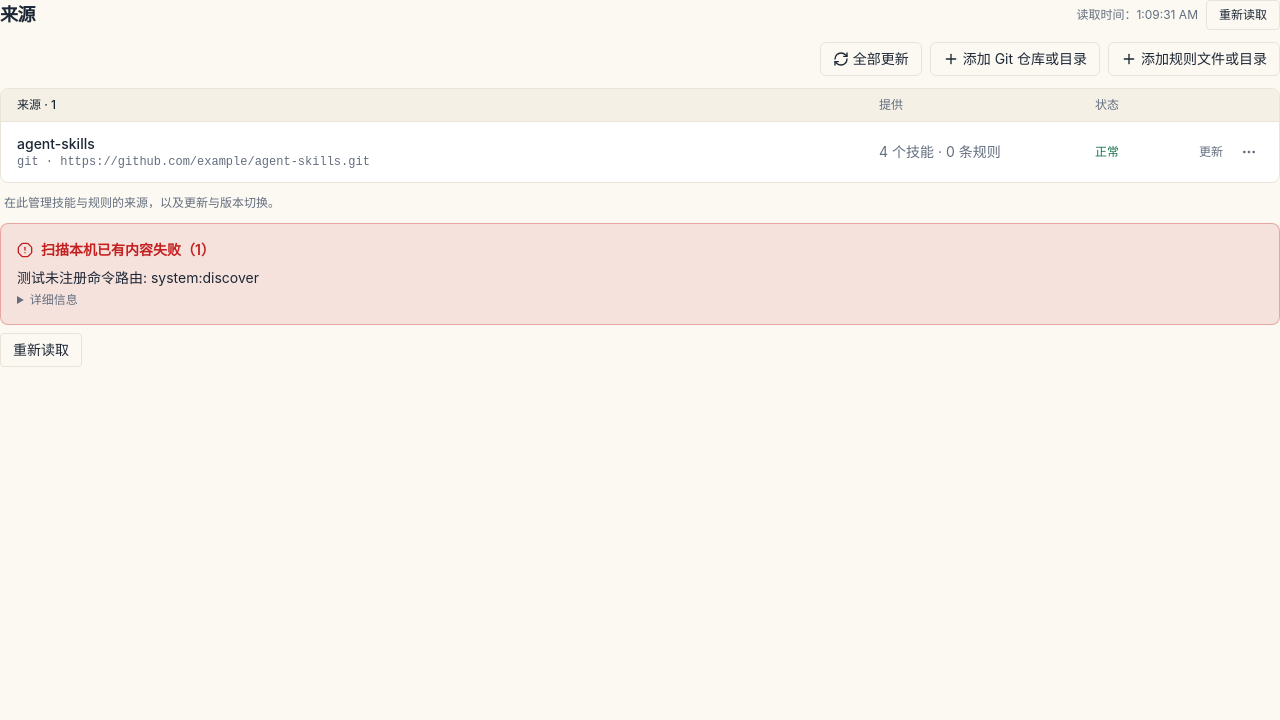
it: 来源页：添加、编辑、更新、移除 › 本机目录来源填写非法路径时停在表单，不写入
The image size is (1280, 720).
Click the button with test id "source-add-collection" at [1015, 59], box [930,42,1100,76]
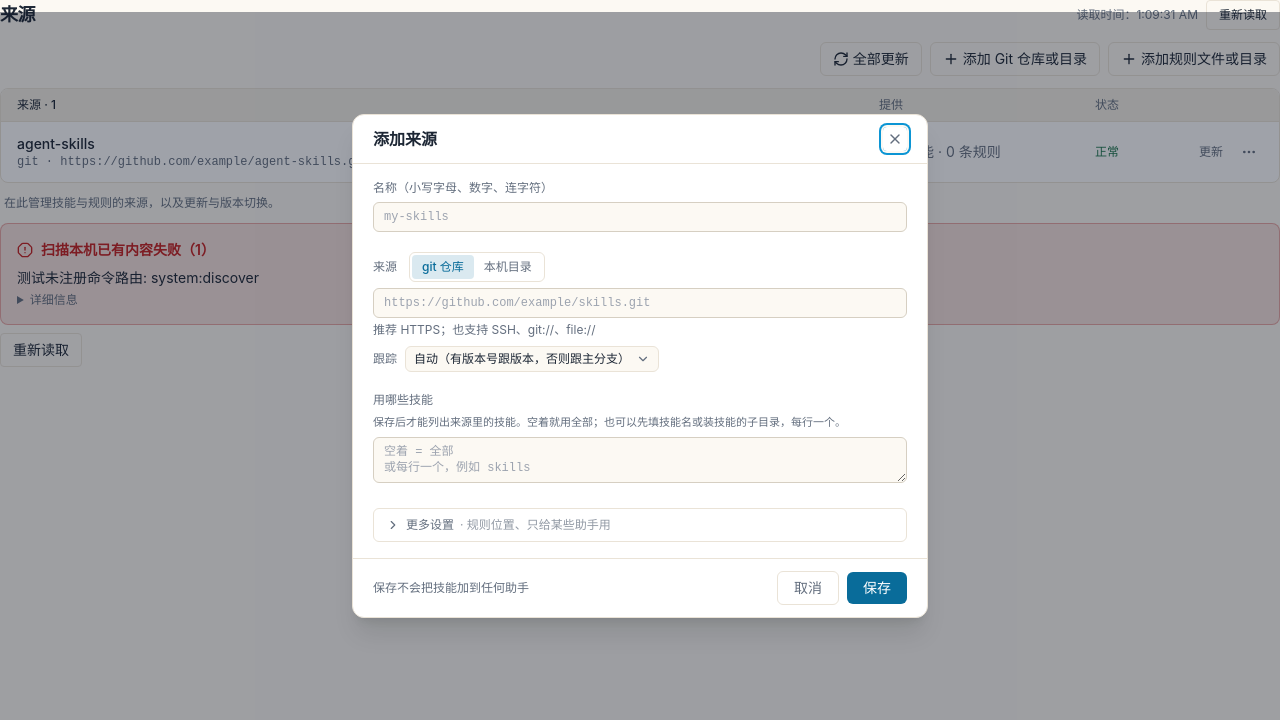
Type "vendor-tool" into the field with test id "collection-name-input" at [640, 217], box [373,202,907,232]
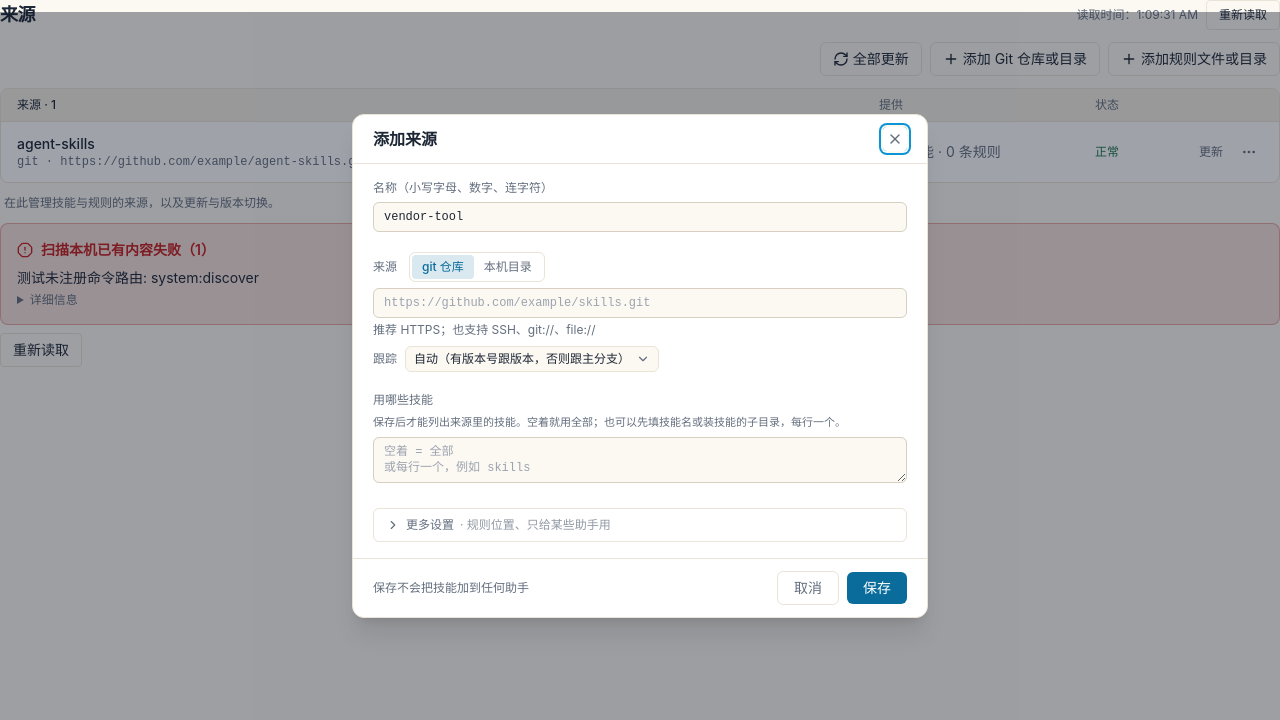
Click the radio button with test id "collection-source-local" at [508, 266], box [484,259,532,274]
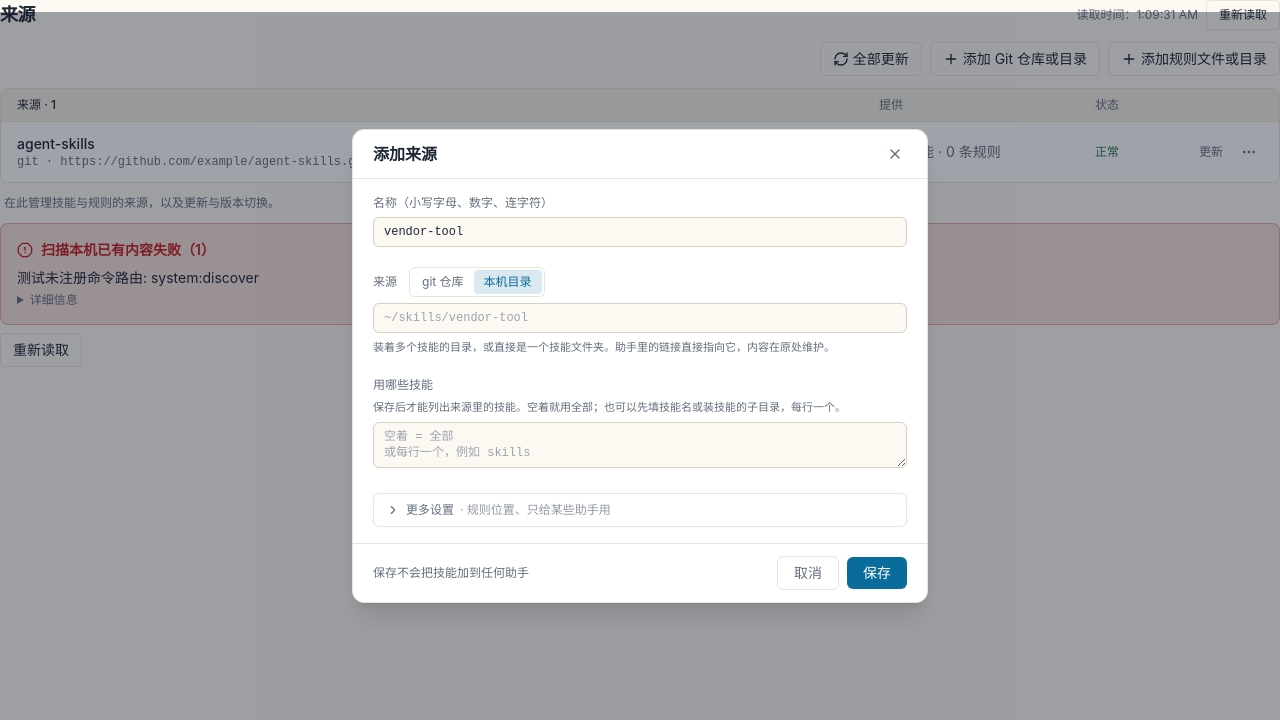
Type "relative/skills" into the field with test id "collection-source-path-input" at [640, 318], box [373,303,907,333]
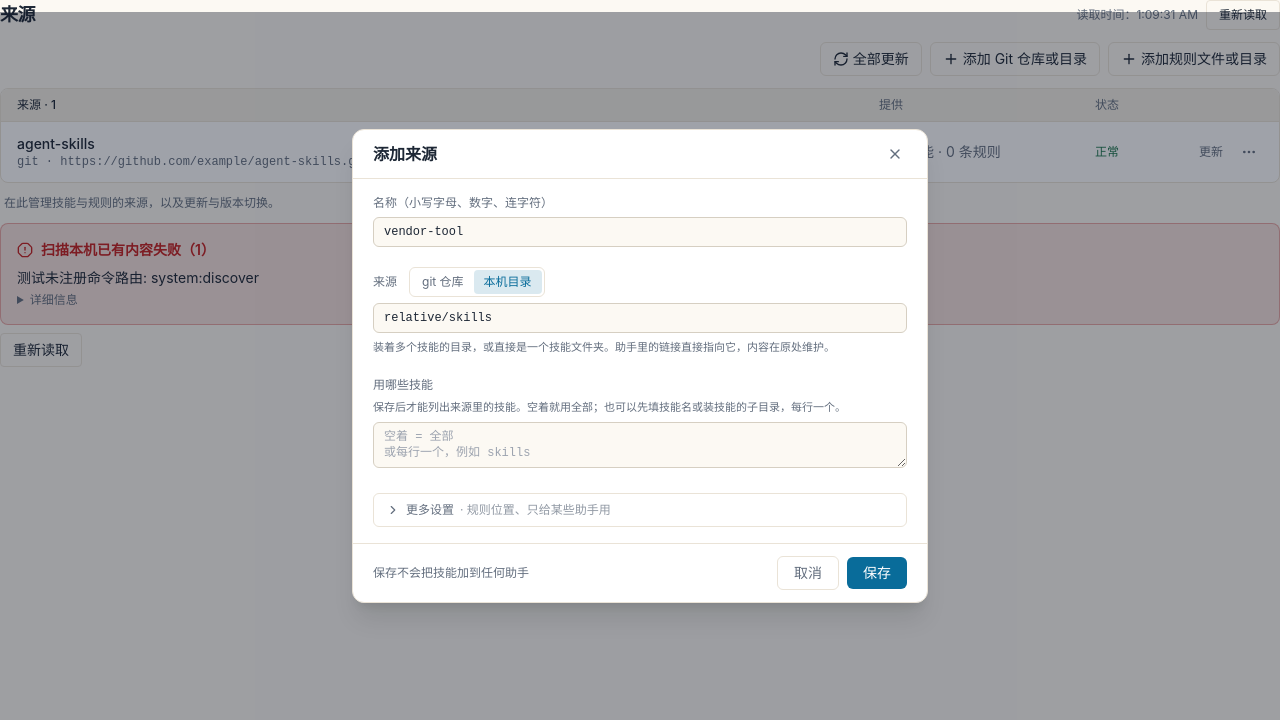
Click the button with test id "collection-form-submit" at [877, 573], box [847,557,907,589]
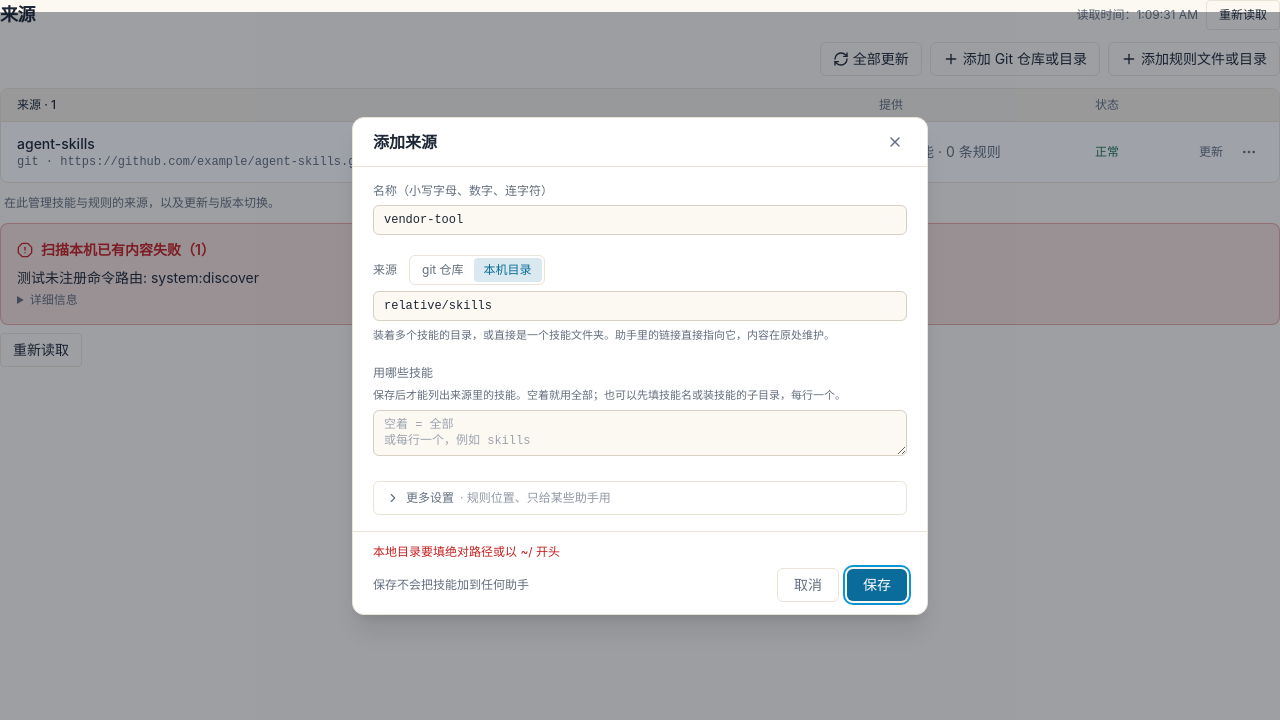
Expected: the text "本地目录要填绝对路径或以 ~/ 开头" is shown, [373,544,560,559]
